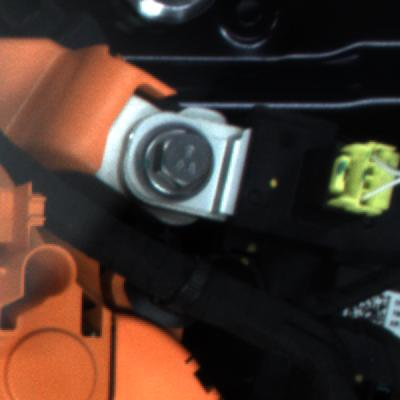nut_b: (134, 115, 217, 206)
